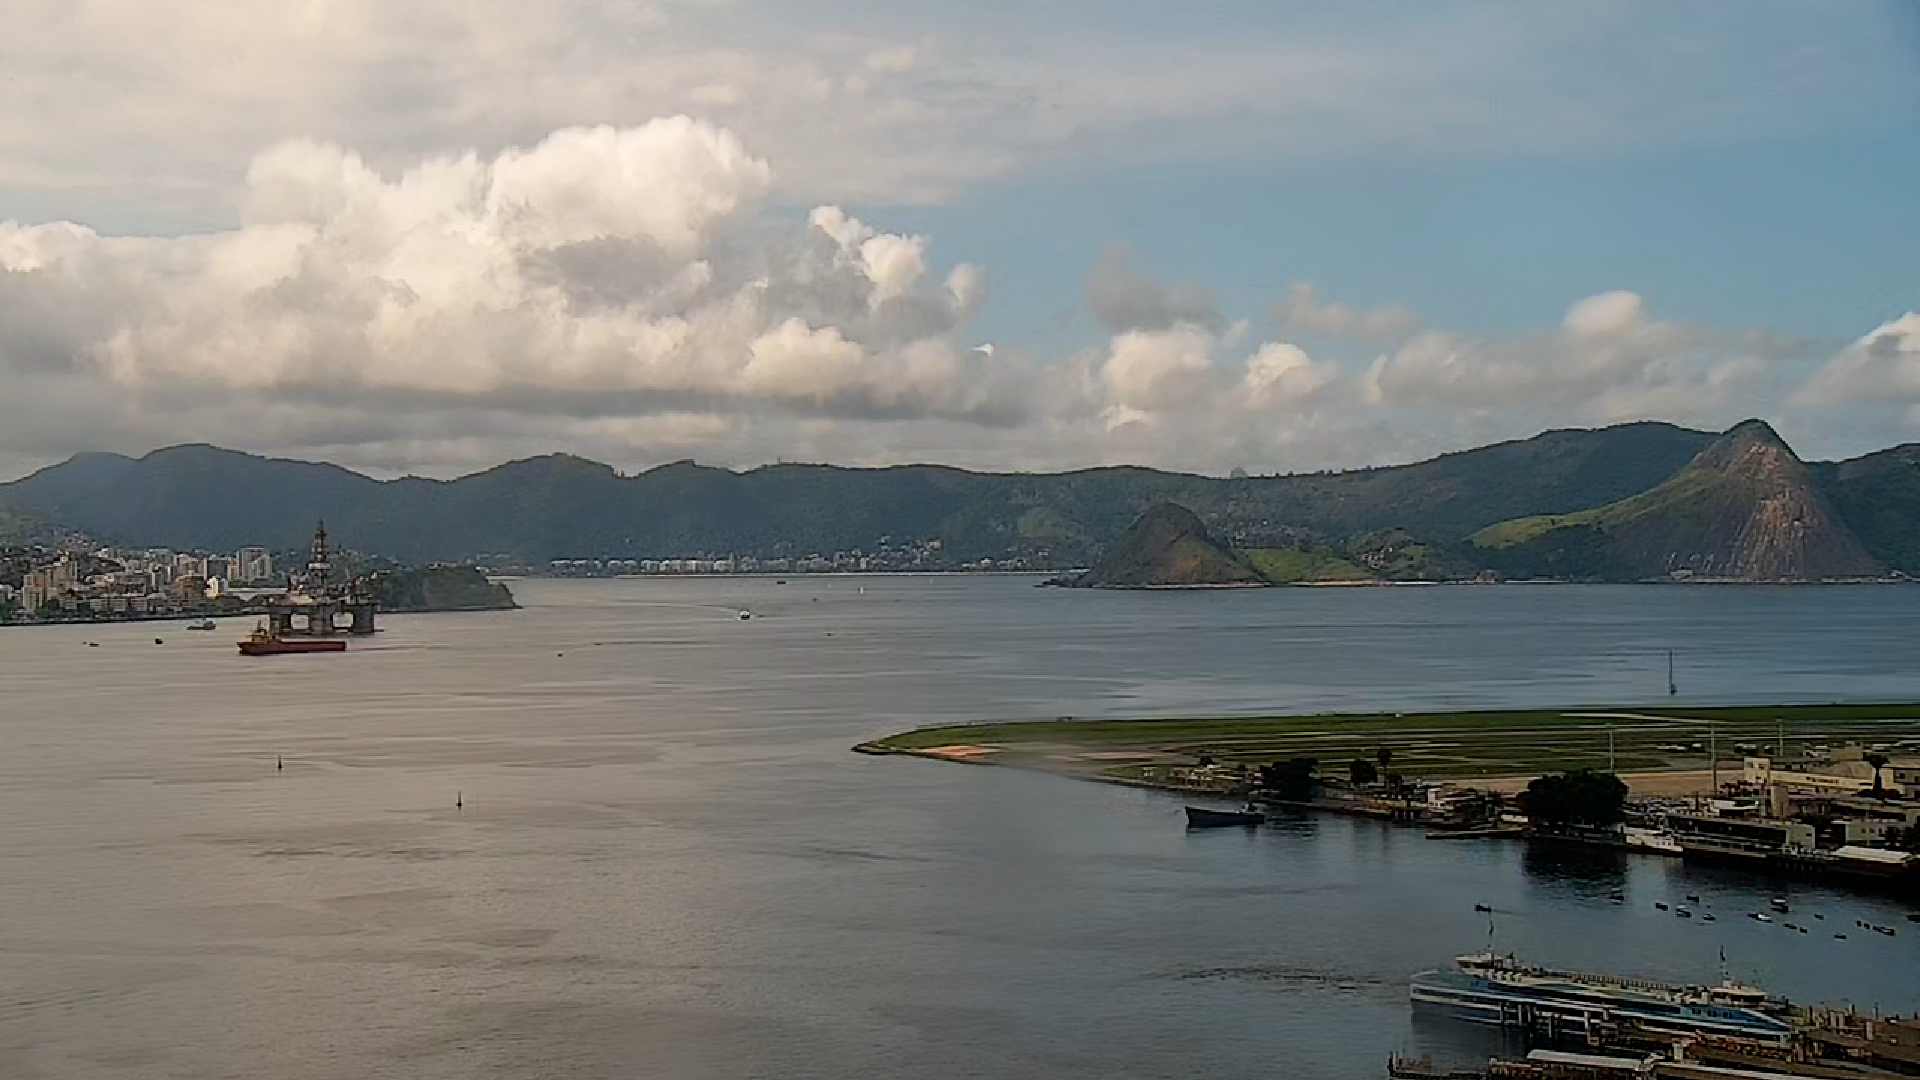Ship1: (1412, 922, 1803, 1048)
Ship5: (229, 616, 352, 659)
